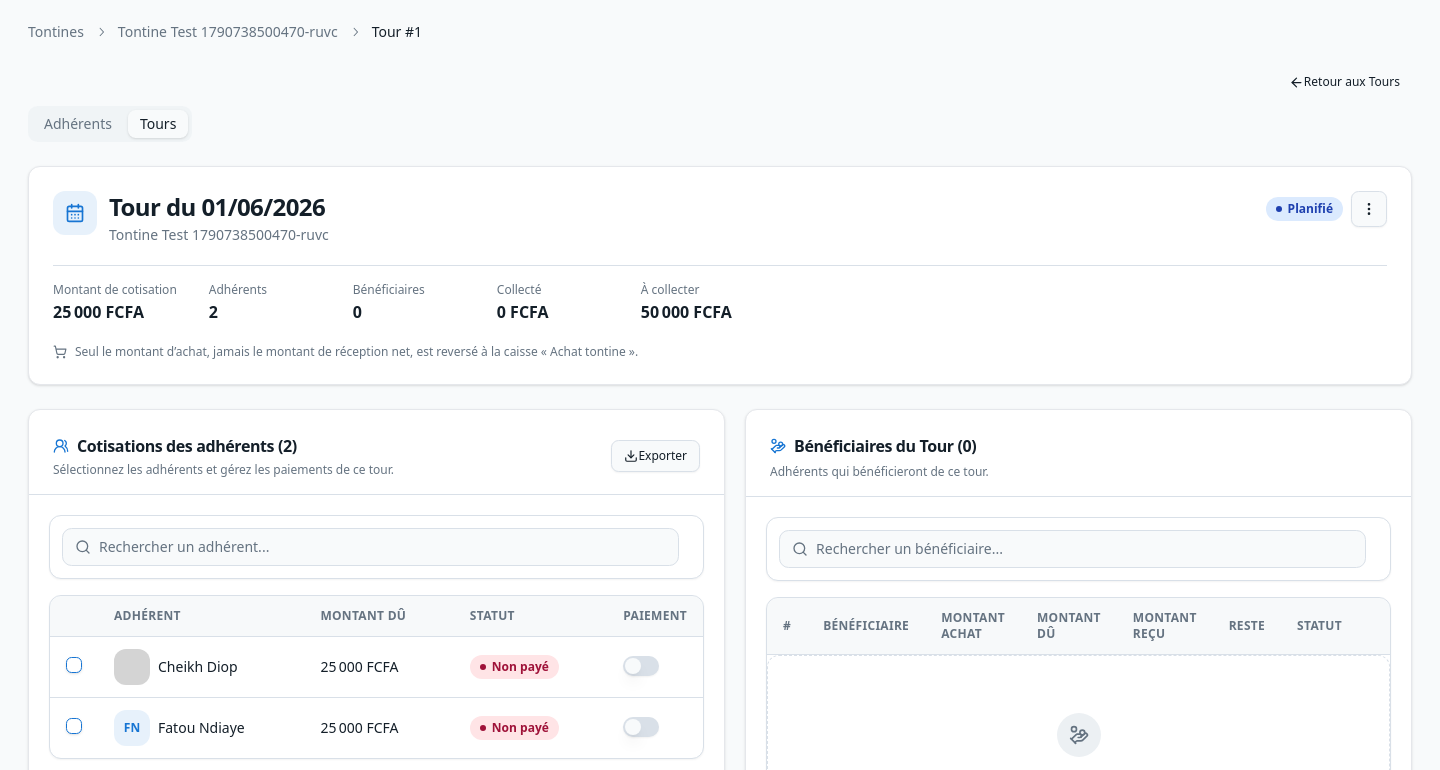
Test: Espace de travail du Tour — Bénéficiaires (Ajouter →/← Enlever) › sélectionner un adhérent puis « Ajouter » le déplace vers le panneau des bénéficiaires
Expected: the text "Fatou Ndiaye" is shown, [158,718,245,737]
Click the checkbox named "Sélectionner" next to "FN". click: (74, 726)
box: [66,718,82,734]
(page scrolled)
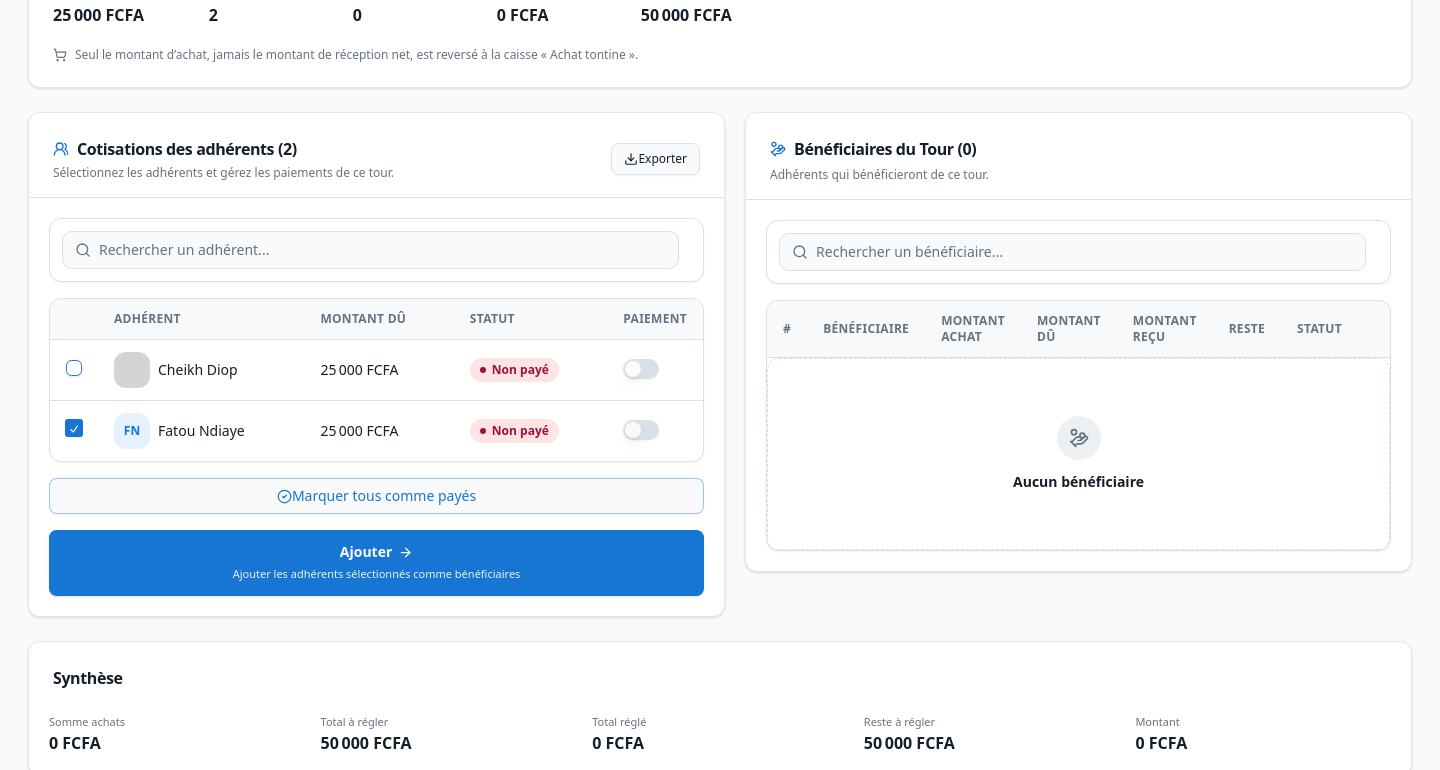
Click the button "Ajouter". click: (377, 563)
box: [49,530,704,596]
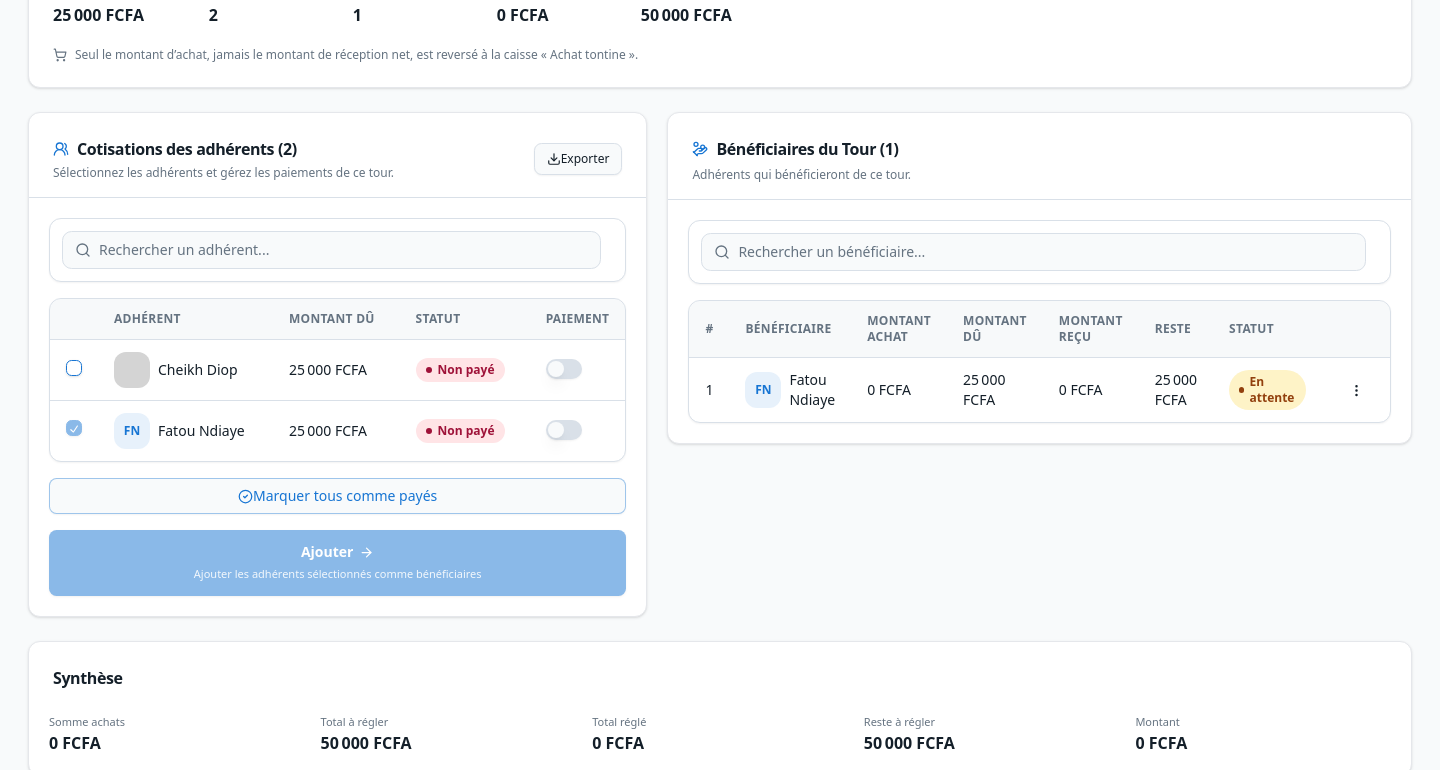
Expected: the text "Fatou Ndiaye" in the row of "En attente" is shown, [789,370,835,409]
